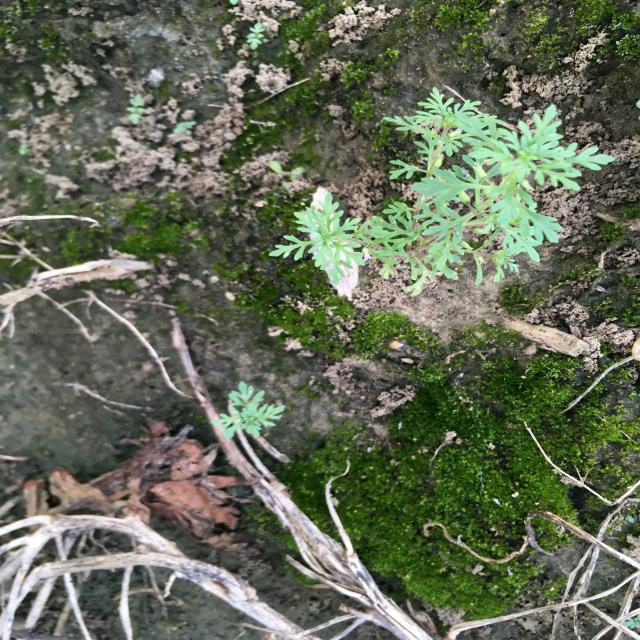Ragweed: (266, 86, 618, 298), (211, 379, 291, 442)
